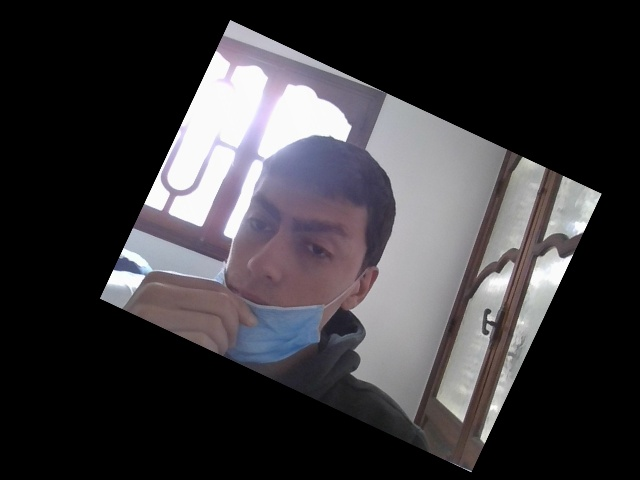mask_weared_incorrect: (210, 152, 366, 356)
